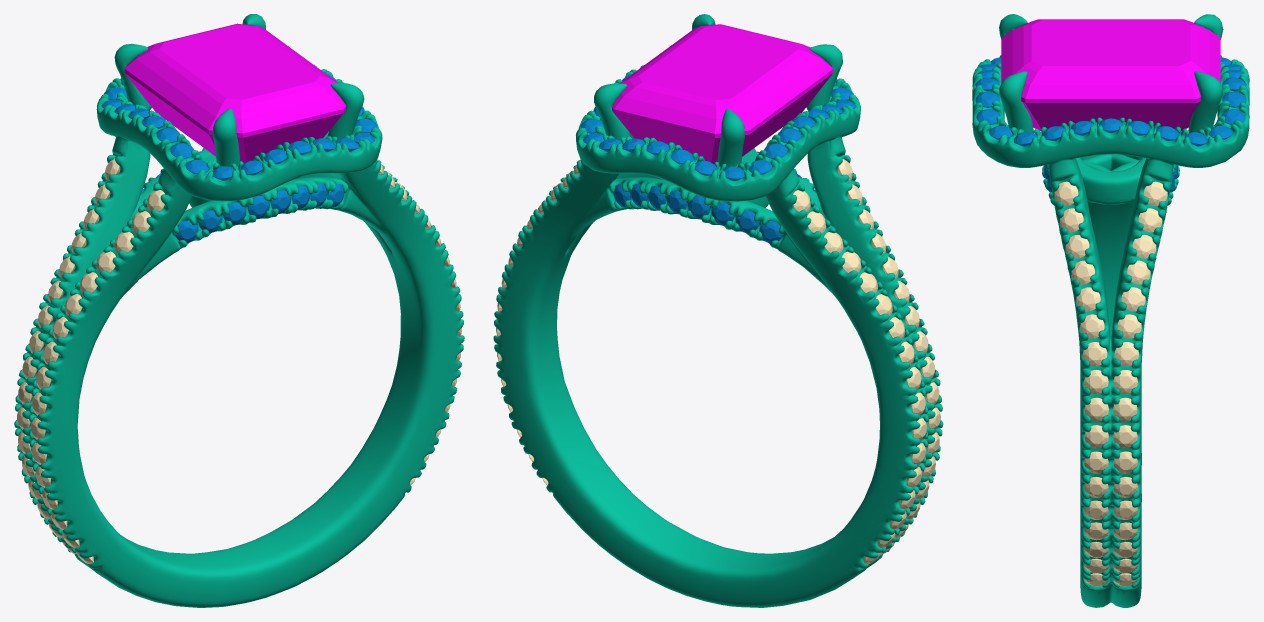
The model's file is BE1M0177_EM_200ct_RENDER.glb.
3 views of the same model, side by side, from view 1: azimuth 30°, elevation 25°; view 2: azimuth 150°, elevation 25°; view 3: azimuth 270°, elevation 25° (orthographic).
Parts seen in each view (by area): view 1: Metal 01, CS_Diamond_Emerald; view 2: Metal 01, CS_Diamond_Emerald; view 3: Metal 01, CS_Diamond_Emerald, Diamond_Round_Gem_SH.045, Diamond_Round_Gem_SH.042, Diamond_Round_Gem_SH.059, Diamond_Round_Gem_SH.043, Diamond_Round_Gem_SH.056, Diamond_Round_Gem_SH.054, Diamond_Round_Gem_SH.058, Diamond_Round_Gem_SH.057, Diamond_Round_Gem_SH.044, Diamond_Round_Gem_SH.047 (+12 smaller).
Boxes of the visible parts, <box> form: Metal 01: <box>14,14,464,607</box>; CS_Diamond_Emerald: <box>124,23,346,163</box>; Metal 01: <box>493,14,943,607</box>; CS_Diamond_Emerald: <box>612,24,833,163</box>; Metal 01: <box>972,14,1249,607</box>; CS_Diamond_Emerald: <box>1001,19,1220,131</box>; Diamond_Round_Gem_SH.045: <box>1117,314,1141,338</box>; Diamond_Round_Gem_SH.042: <box>1113,397,1137,421</box>; Diamond_Round_Gem_SH.059: <box>1084,397,1108,421</box>; Diamond_Round_Gem_SH.043: <box>1113,370,1137,394</box>; Diamond_Round_Gem_SH.056: <box>1080,314,1104,338</box>; Diamond_Round_Gem_SH.054: <box>1076,287,1100,311</box>; Diamond_Round_Gem_SH.058: <box>1084,370,1108,394</box>; Diamond_Round_Gem_SH.057: <box>1083,342,1107,366</box>; Diamond_Round_Gem_SH.044: <box>1114,342,1138,366</box>; Diamond_Round_Gem_SH.047: <box>1121,287,1145,311</box>.
Size of the model in its own units: 20.52 by 24.5 by 11.38.
